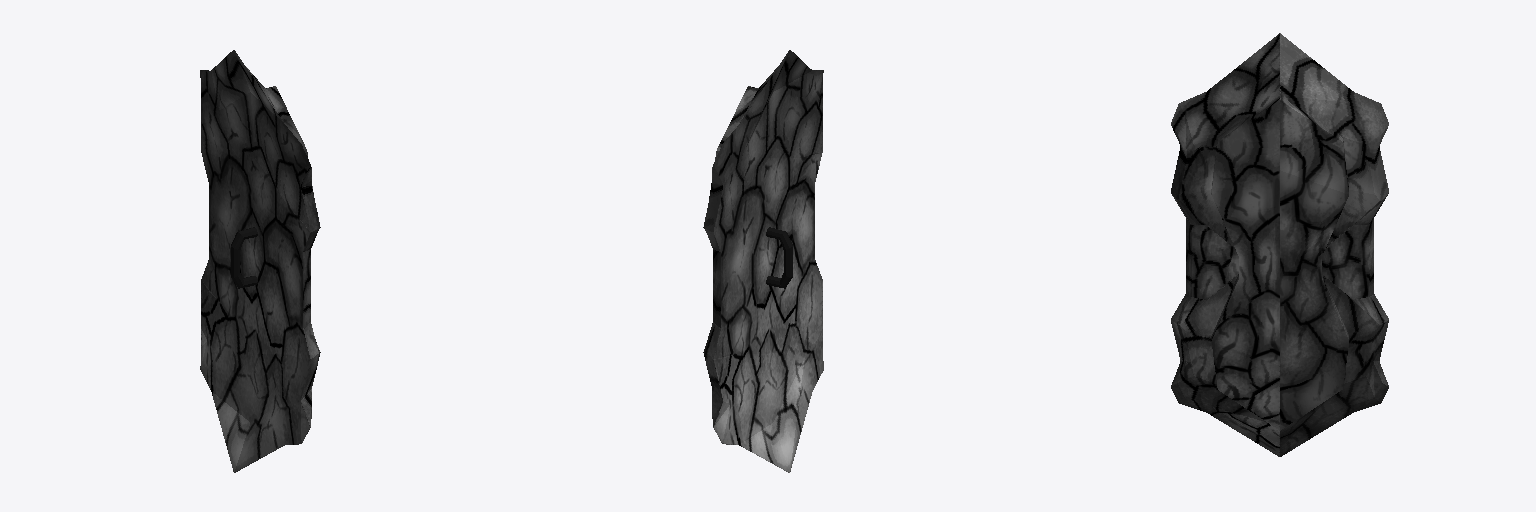
3 renders of one model, left to right at view 1: azimuth 30°, elevation 25°; view 2: azimuth 150°, elevation 25°; view 3: azimuth 270°, elevation 25°, orthographic.
Parts seen in each view (by area): view 1: pCube1, pCylinder1; view 2: pCube1, pCylinder1; view 3: pCube1.
Part boxes in pixels (left/top/right/bottom): pCube1: left=200, top=50, right=320, bottom=472; pCylinder1: left=231, top=227, right=257, bottom=288; pCube1: left=703, top=50, right=823, bottom=472; pCylinder1: left=766, top=227, right=792, bottom=288; pCube1: left=1171, top=33, right=1388, bottom=456.
Bounding box in the file's own units: 0.759 × 6.24 × 2.92.
2 materials, 1 textured.